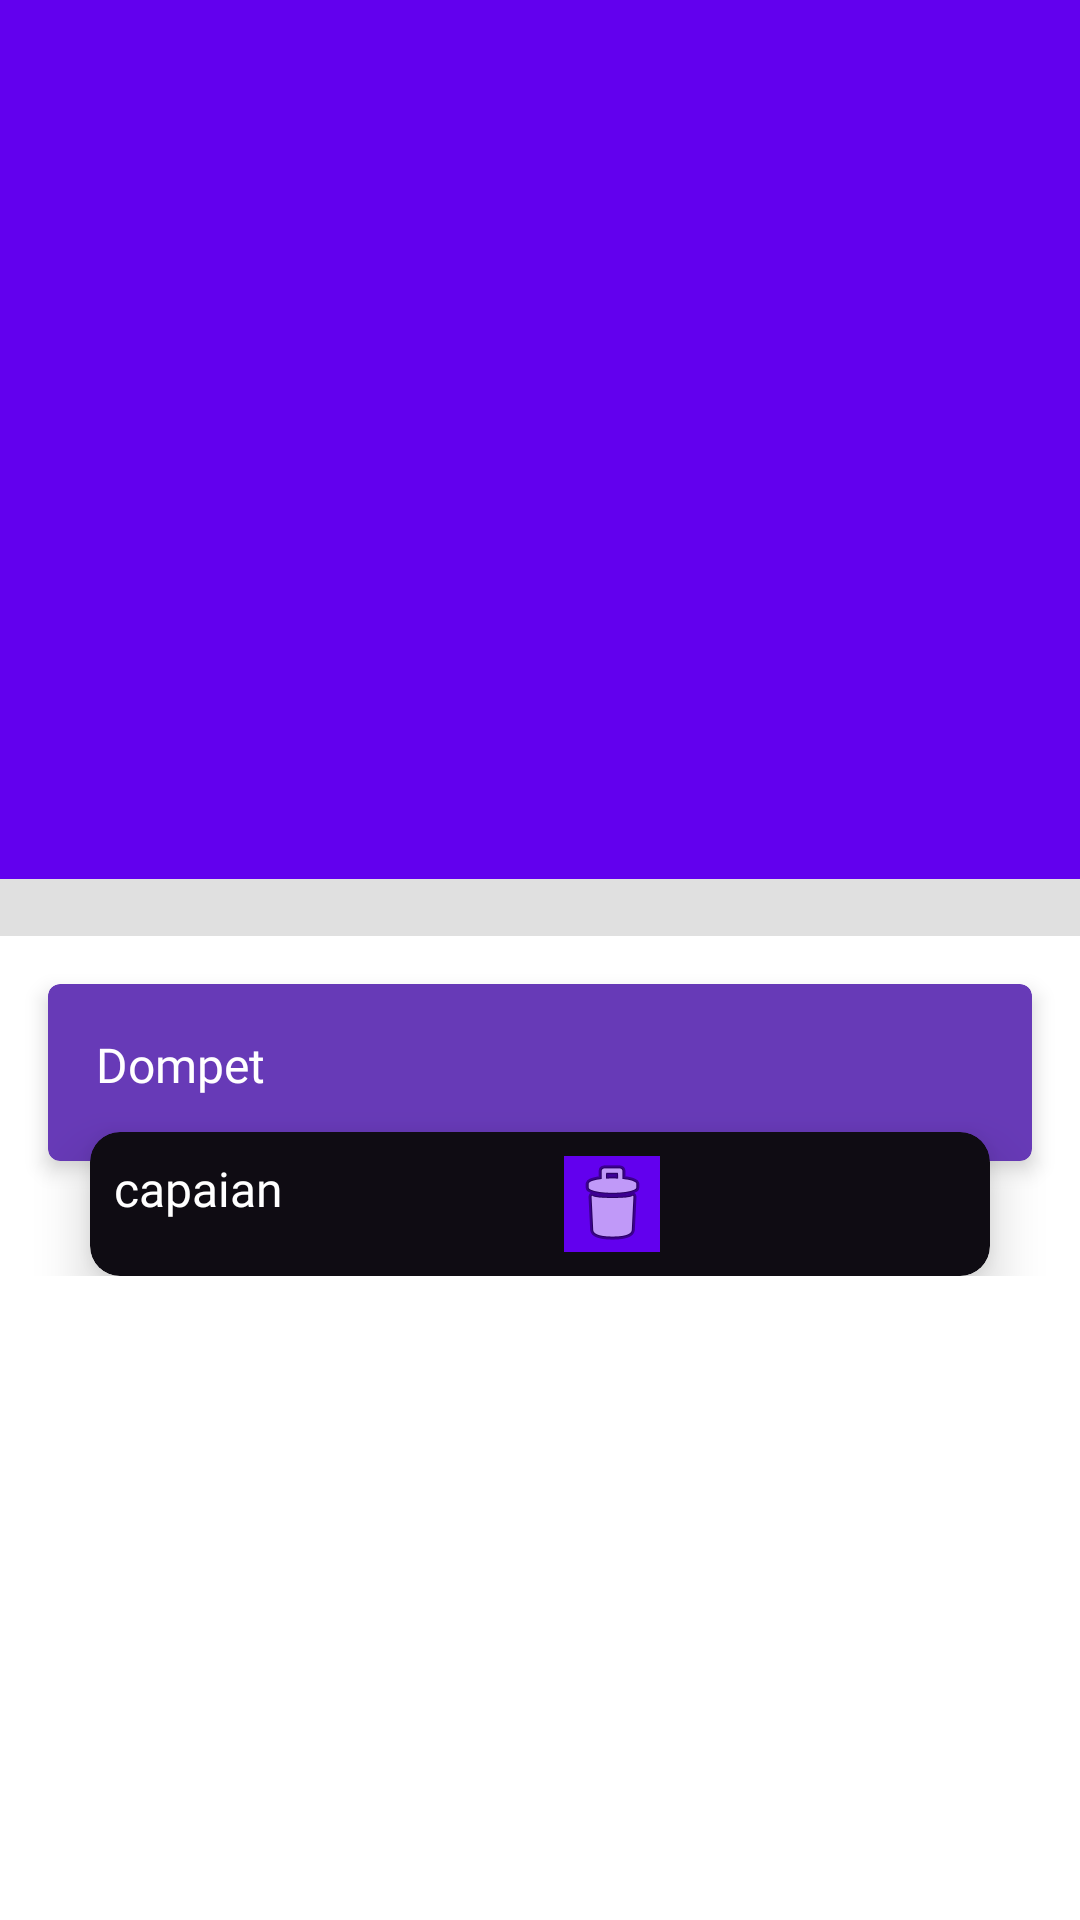

Named icons in this screenshot (1080×1920) and their bounding boxes, rect(x1, y1, x2, y2):
delete: rect(564, 1156, 660, 1252)
